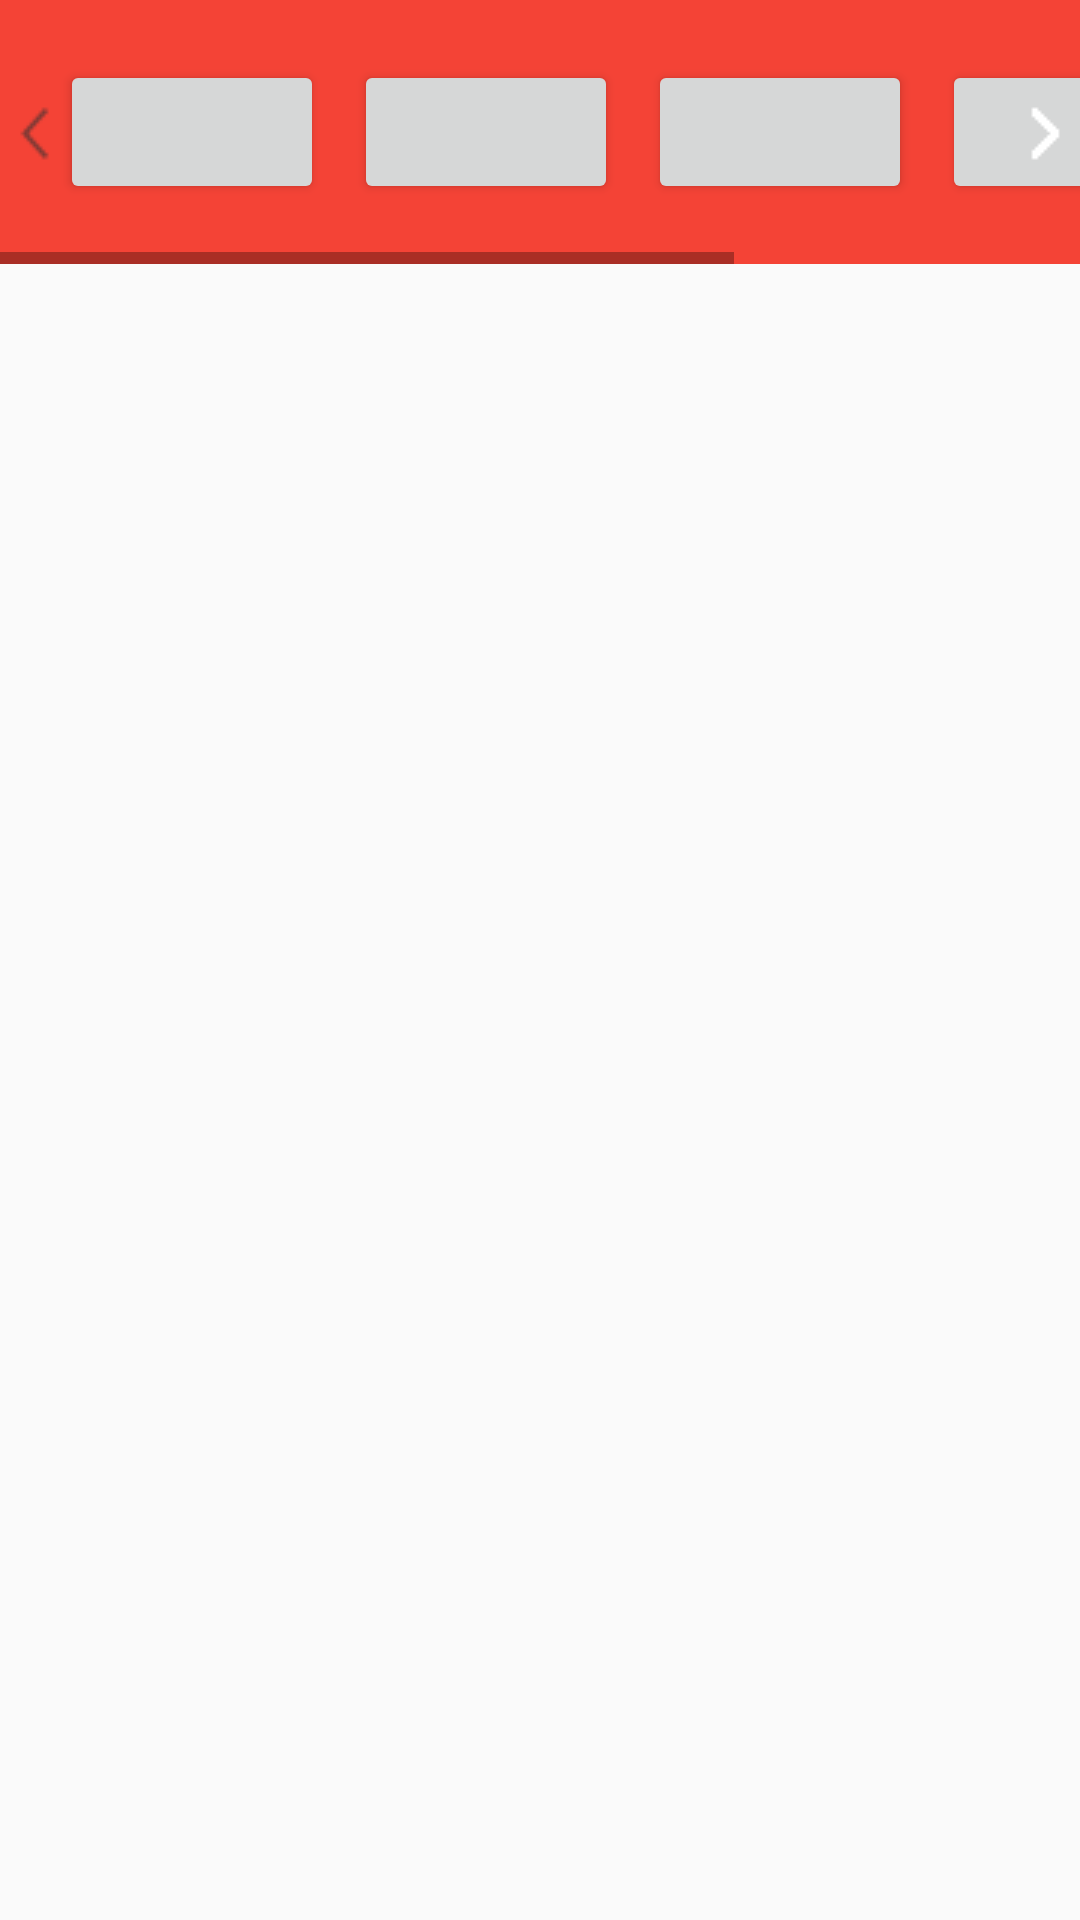

Icon click points for this 1080 x 1920 phone screenshot, format (x=x, y=y):
arrowl: (x=35, y=133)
arrowr: (x=1045, y=133)
